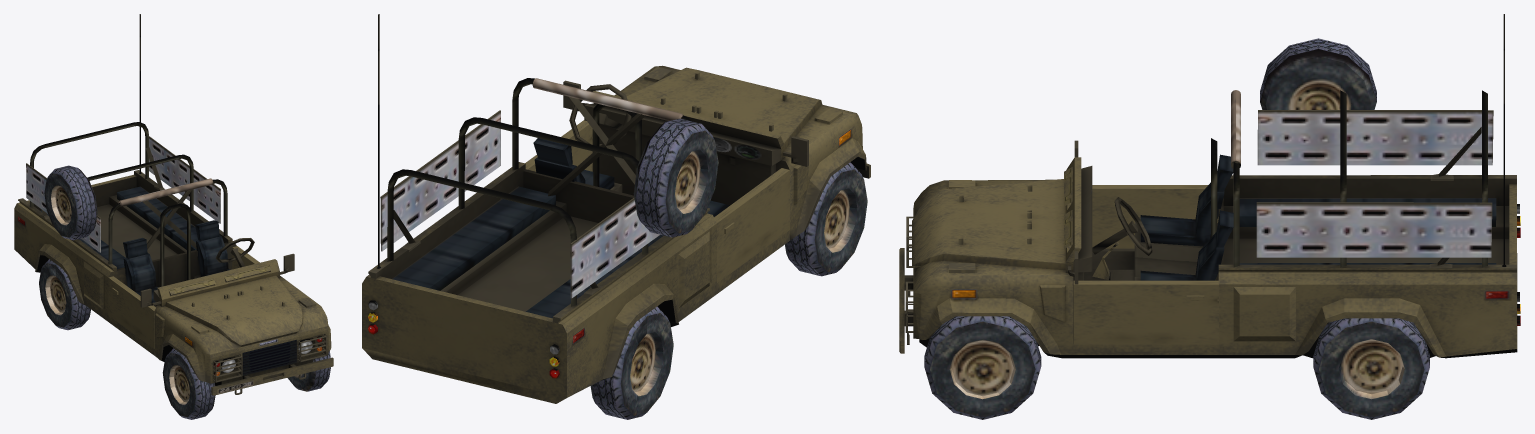
File: LANDROVER_NEW.FBX
3 views of the same model, side by side, from view 1: azimuth 30°, elevation 25°; view 2: azimuth 150°, elevation 25°; view 3: azimuth 270°, elevation 25° (orthographic). The views are drawn at different scales.
Parts seen in each view (by area): view 1: polySurface23, Front_Right_Tyre, Back_Right_Tyre, passenger_side_door_1, Front_Left_Tyre; view 2: polySurface23, Front_Right_Tyre, Back_Right_Tyre, passenger_side_door_1, driver_side_door_1; view 3: polySurface23, Front_Left_Tyre, Back_Left_Tyre, driver_side_door_1, passenger_side_door_1.
Boxes of the visible parts, x1,y1,x2,y2 form: polySurface23: (14, 14, 333, 395); Front_Right_Tyre: (162, 348, 215, 419); Back_Right_Tyre: (39, 259, 90, 330); passenger_side_door_1: (108, 276, 155, 348); Front_Left_Tyre: (287, 351, 330, 391); polySurface23: (362, 14, 870, 403); Front_Right_Tyre: (785, 162, 867, 276); Back_Right_Tyre: (590, 306, 673, 419); passenger_side_door_1: (714, 168, 789, 282); driver_side_door_1: (525, 120, 592, 171); polySurface23: (899, 14, 1519, 358); Front_Left_Tyre: (924, 316, 1041, 419); Back_Left_Tyre: (1313, 318, 1429, 419); driver_side_door_1: (1073, 280, 1218, 344); passenger_side_door_1: (1092, 185, 1218, 248).
Size of the model in its own units: 1.87 by 2.89 by 4.06.
